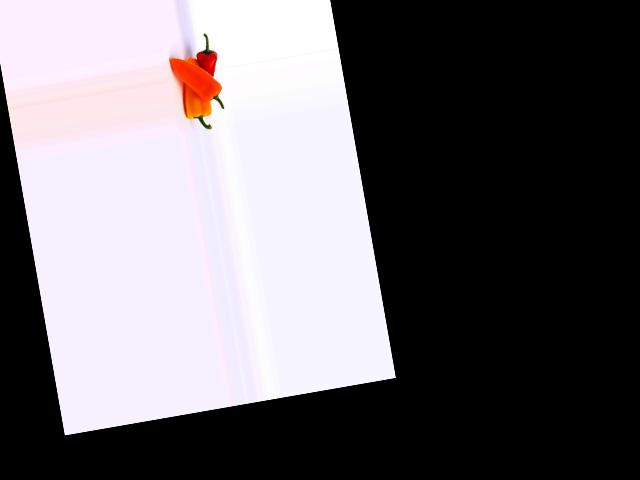bell_pepper: (174, 73, 218, 135)
